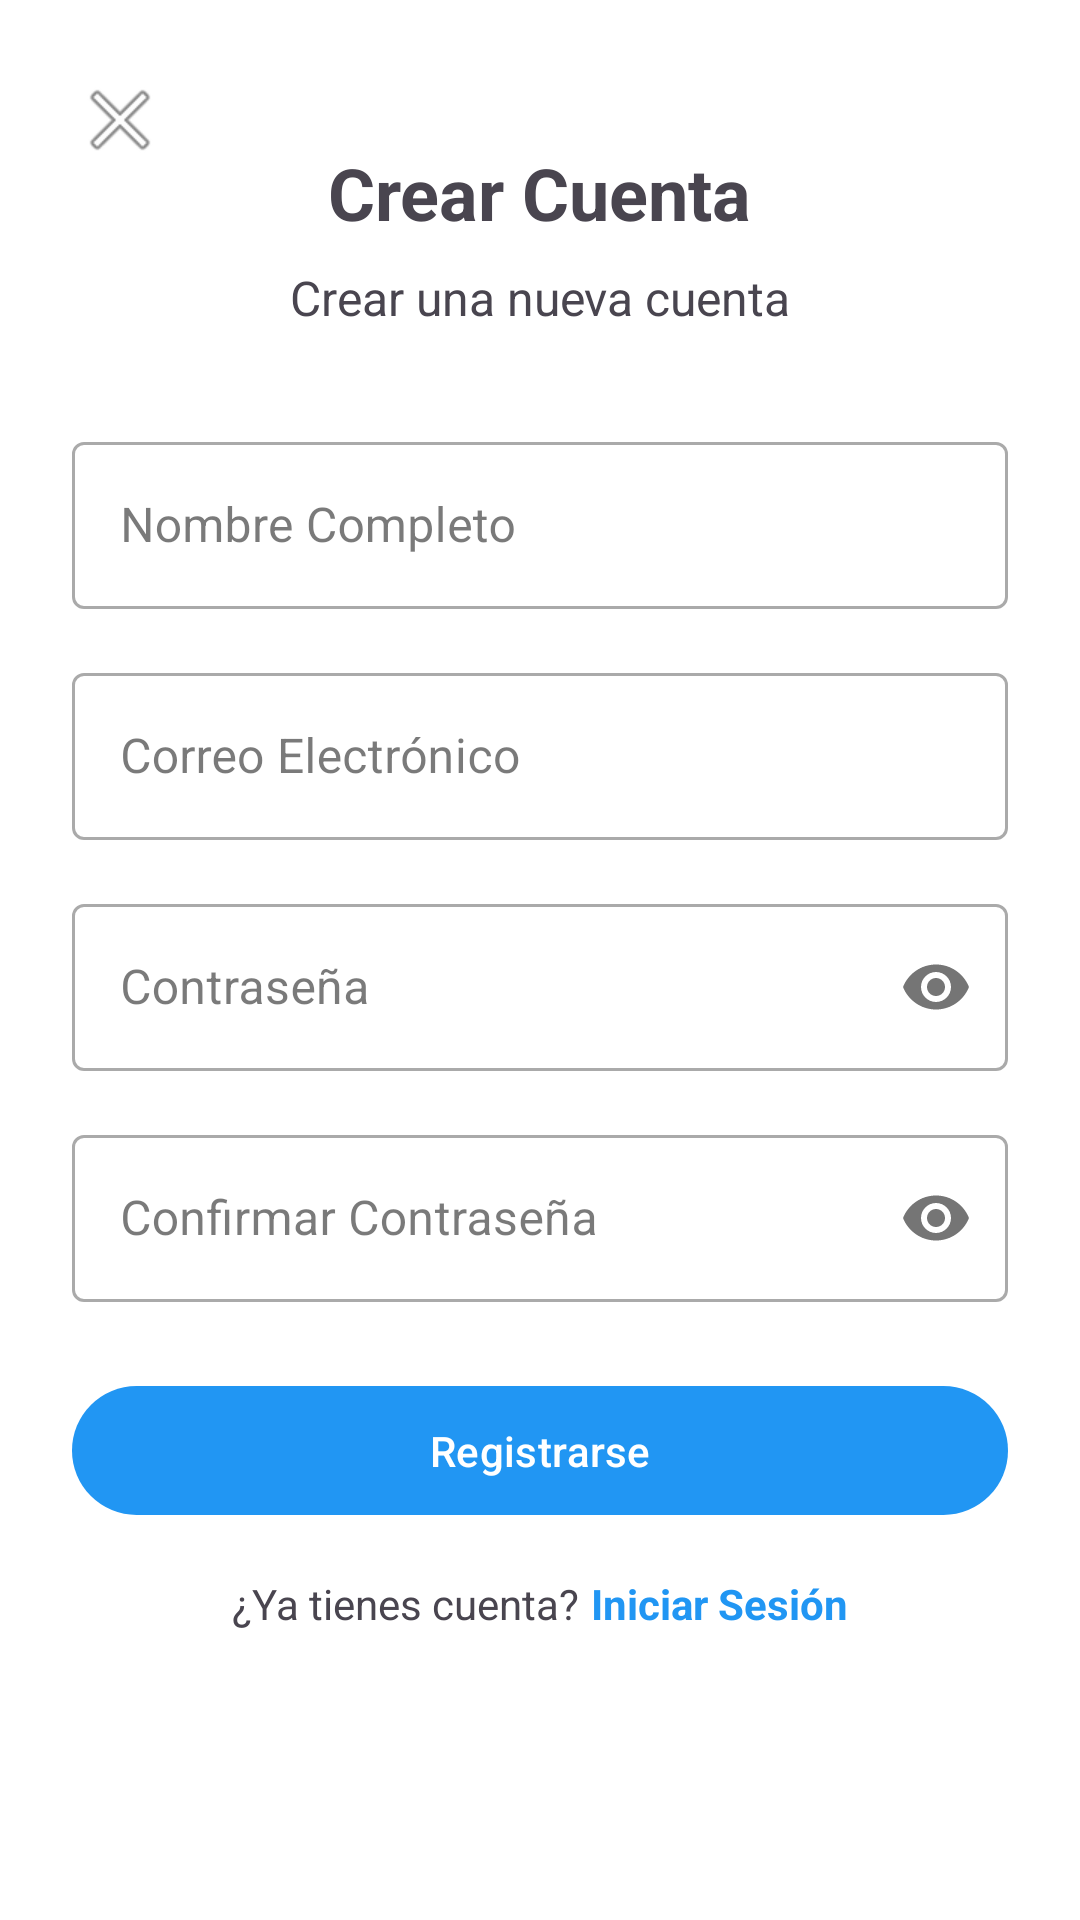

Where to tap for icons on this 1080 × 1920 app screen, as (x=x, y=y):
Atrás: (x=120, y=120)
